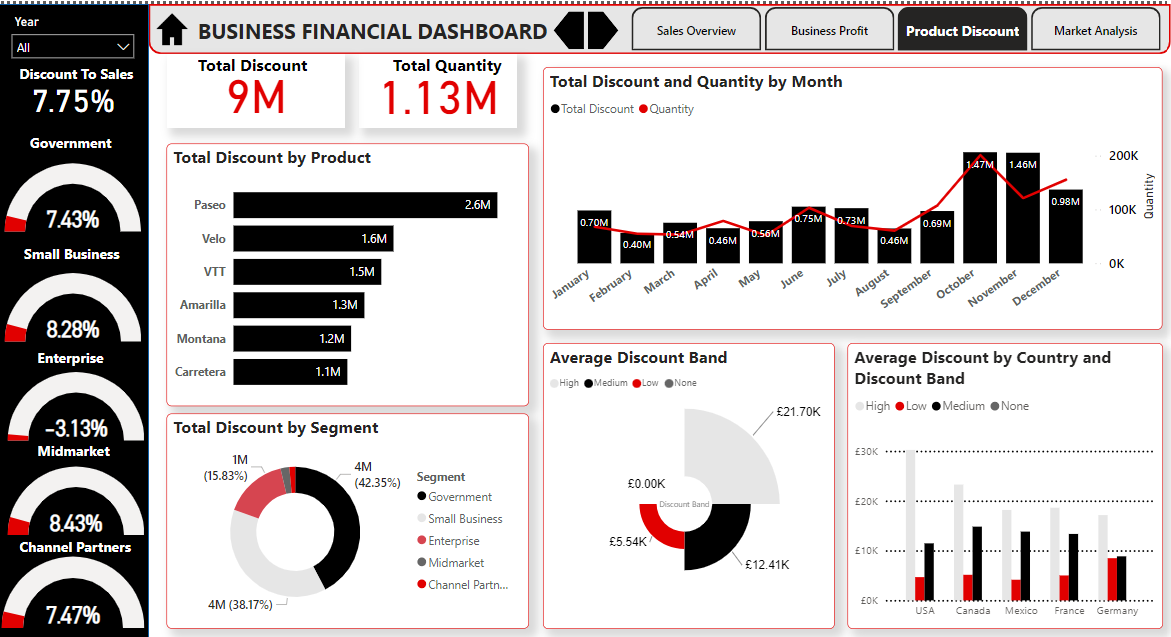

The page's visual inventory and layout, read from the dashboard file:
{"tool":"powerbi","page":{"name":"Product Discount","canvas":[1351,728],"ordinal":2},"visuals":[{"type":"shape","box":[174.6,0,1176.3,57.6],"z":0},{"type":"shape","box":[0,0,174.6,728.8],"z":1000},{"type":"card","fields":{"Values":["MyMeasures.Total Discount"]},"box":[195,56.7,205,85],"z":3000},{"type":"clusteredBarChart","title":"Total Discount by Product","fields":{"Category":["financials.Product"],"Y":["MyMeasures.Total Discount"]},"box":[194.9,161,416.9,301.7],"z":4000},{"type":"donutChart","title":"Total Discount by Segment","fields":{"Category":["financials.Segment"],"Y":["MyMeasures.Total Discount"]},"box":[194.9,471.2,416.9,247.5],"z":5000},{"type":"card","fields":{"Values":["MyMeasures.Quantity"]},"box":[415.5,56.9,182.8,86.2],"z":6000},{"type":"card","fields":{"Values":["MyMeasures.Discount to Sales"]},"box":[0,72.4,174.1,70.7],"z":7000},{"type":"lineClusteredColumnComboChart","fields":{"Category":["financials.Date.Variation.Date Hierarchy.Month"],"Y2":["MyMeasures.Quantity"],"Y":["MyMeasures.Total Discount"]},"box":[628.3,71.7,711.7,301.7],"z":8000},{"type":"AsterPlot1443303142064","title":"Average Discount Band","fields":{"Category":["financials.Discount Band"],"Y":["MyMeasures.Avg Disc"]},"box":[628.3,390,335,328.3],"z":9000},{"type":"gauge","fields":{"Y":["MyMeasures.Govt DTS"]},"box":[3.3,160,166.7,123.3],"z":10000},{"type":"slicer","fields":{"Values":["financials.Date.Variation.Date Hierarchy.Year"]},"box":[6.9,6.9,160.3,89.7],"z":11000},{"type":"gauge","fields":{"Y":["MyMeasures.Small Biz DTS"]},"box":[3.4,289.7,167.2,117.2],"z":12000},{"type":"gauge","fields":{"Y":["MyMeasures.Ent PTS"]},"box":[6.9,406.9,167.2,110.3],"z":13000},{"type":"gauge","fields":{"Y":["MyMeasures.Mid Markt DTS"]},"box":[6.9,517.2,167.2,106.9],"z":14000},{"type":"gauge","fields":{"Y":["MyMeasures.Channel Part DTS"]},"box":[0,624.1,174.1,103.4],"z":15000},{"type":"textbox","box":[20,63.3,221.7,90],"z":16000},{"type":"textbox","box":[26.7,270,140,45],"z":18000},{"type":"textbox","box":[41.4,389.7,112.1,43.1],"z":19000},{"type":"textbox","box":[41.4,496.6,112.1,43.1],"z":20000},{"type":"textbox","box":[20.7,606.9,158.6,43.1],"z":21000},{"type":"clusteredColumnChart","title":"Average Discount by Country and Discount Band","fields":{"Category":["financials.Country"],"Y":["MyMeasures.Avg Disc"],"Series":["financials.Discount Band"]},"box":[978,389.8,362.7,328.8],"z":22000},{"type":"textbox","box":[225,51.7,146.7,36.7],"z":23000},{"type":"textbox","box":[450,51.7,148.3,43.1],"z":24000},{"type":"textbox","box":[33.3,143.3,133.3,33.3],"z":24500},{"type":"textbox","box":[225,8.3,443.3,41.7],"z":24501},{"type":"pageNavigator","box":[730,3.3,610,50],"z":24502},{"type":"image","box":[178.3,0,46.7,58.3],"z":24503},{"type":"shape","box":[680,8.3,35,43.3],"z":24504},{"type":"shape","box":[640,8.3,35,43.3],"z":24505}]}

Visuals, with their boxes in screenshot pixels (x1, y1, x2, y2), scaled from the page's 1351x728 canvas onto the 1171x637 screenshot:
shape: select_region(151, 0, 1170, 50)
shape: select_region(0, 0, 151, 636)
card - MyMeasures.Total Discount: select_region(169, 50, 347, 124)
"Total Discount by Product" clusteredBarChart: select_region(169, 141, 530, 405)
"Total Discount by Segment" donutChart: select_region(169, 412, 530, 629)
card - MyMeasures.Quantity: select_region(360, 50, 519, 125)
card - MyMeasures.Discount to Sales: select_region(0, 63, 151, 125)
lineClusteredColumnComboChart - financials.Date.Variation.Date Hierarchy.Month x MyMeasures.Quantity: select_region(545, 63, 1161, 327)
"Average Discount Band" AsterPlot1443303142064: select_region(545, 341, 835, 629)
gauge - MyMeasures.Govt DTS: select_region(3, 140, 147, 248)
slicer - financials.Date.Variation.Date Hierarchy.Year: select_region(6, 6, 145, 85)
gauge - MyMeasures.Small Biz DTS: select_region(3, 253, 148, 356)
gauge - MyMeasures.Ent PTS: select_region(6, 356, 151, 453)
gauge - MyMeasures.Mid Markt DTS: select_region(6, 453, 151, 546)
gauge - MyMeasures.Channel Part DTS: select_region(0, 546, 151, 636)
textbox: select_region(17, 55, 209, 134)
textbox: select_region(23, 236, 144, 276)
textbox: select_region(36, 341, 133, 379)
textbox: select_region(36, 435, 133, 472)
textbox: select_region(18, 531, 155, 569)
"Average Discount by Country and Discount Band" clusteredColumnChart: select_region(848, 341, 1162, 629)
textbox: select_region(195, 45, 322, 77)
textbox: select_region(390, 45, 519, 83)
textbox: select_region(29, 125, 144, 155)
textbox: select_region(195, 7, 579, 44)
pageNavigator: select_region(633, 3, 1161, 47)
image: select_region(155, 0, 195, 51)
shape: select_region(589, 7, 620, 45)
shape: select_region(555, 7, 585, 45)
